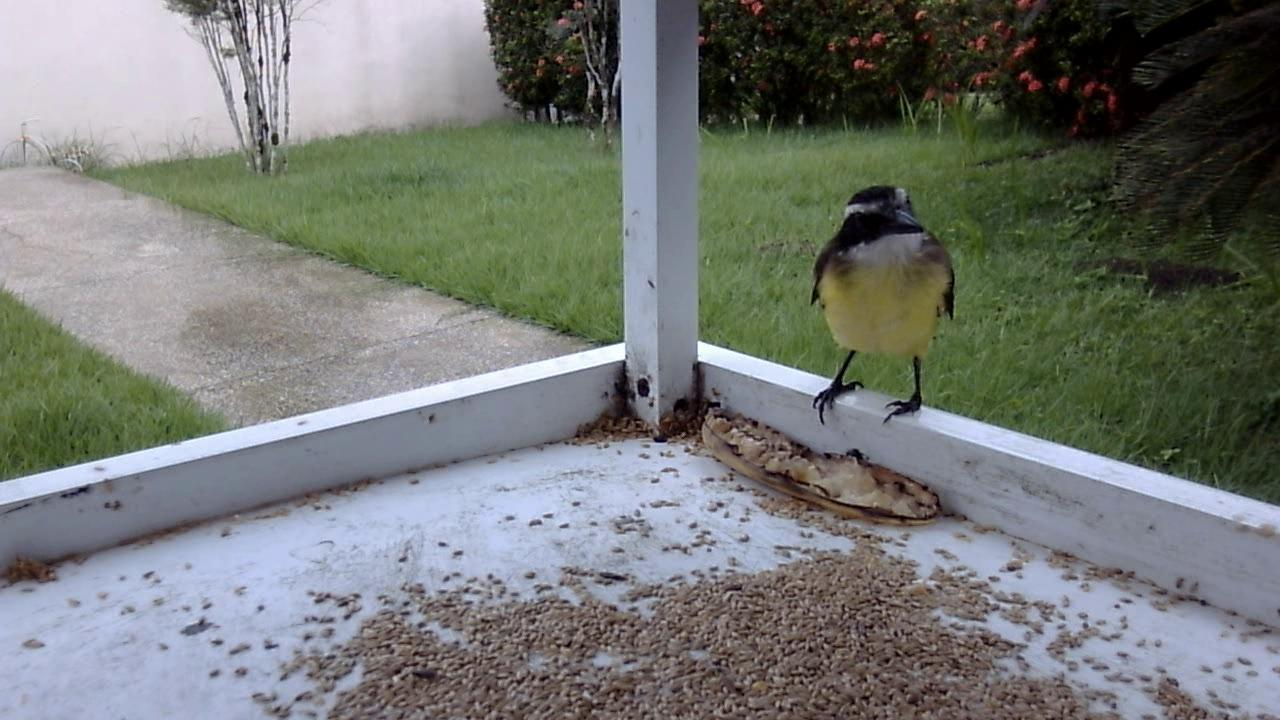bem_te_vi: (800, 180, 958, 445)
